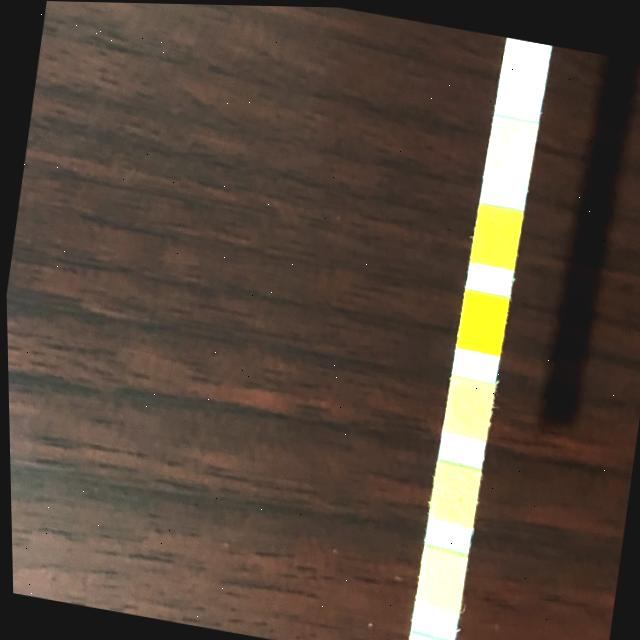Bilirubin: (501, 35, 551, 90)
Blood: (454, 287, 506, 352)
Ketone: (483, 114, 535, 179)
Nitrite: (404, 633, 450, 640)
Protein: (427, 459, 479, 524)
SpGravity: (470, 203, 523, 268)
Urobilinogen: (413, 544, 465, 609)
pH: (442, 372, 494, 436)
